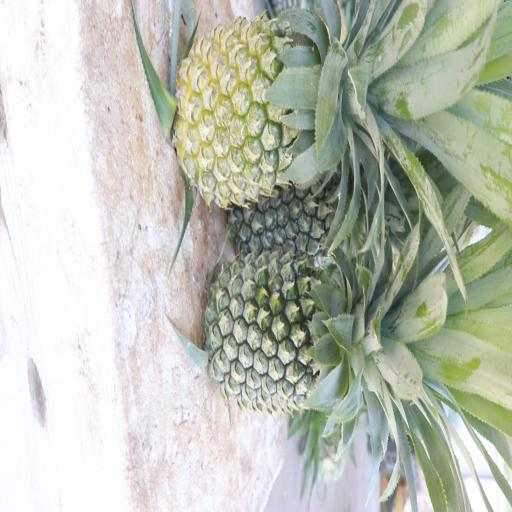Pineapple - v8 v1: (174, 16, 356, 204)
